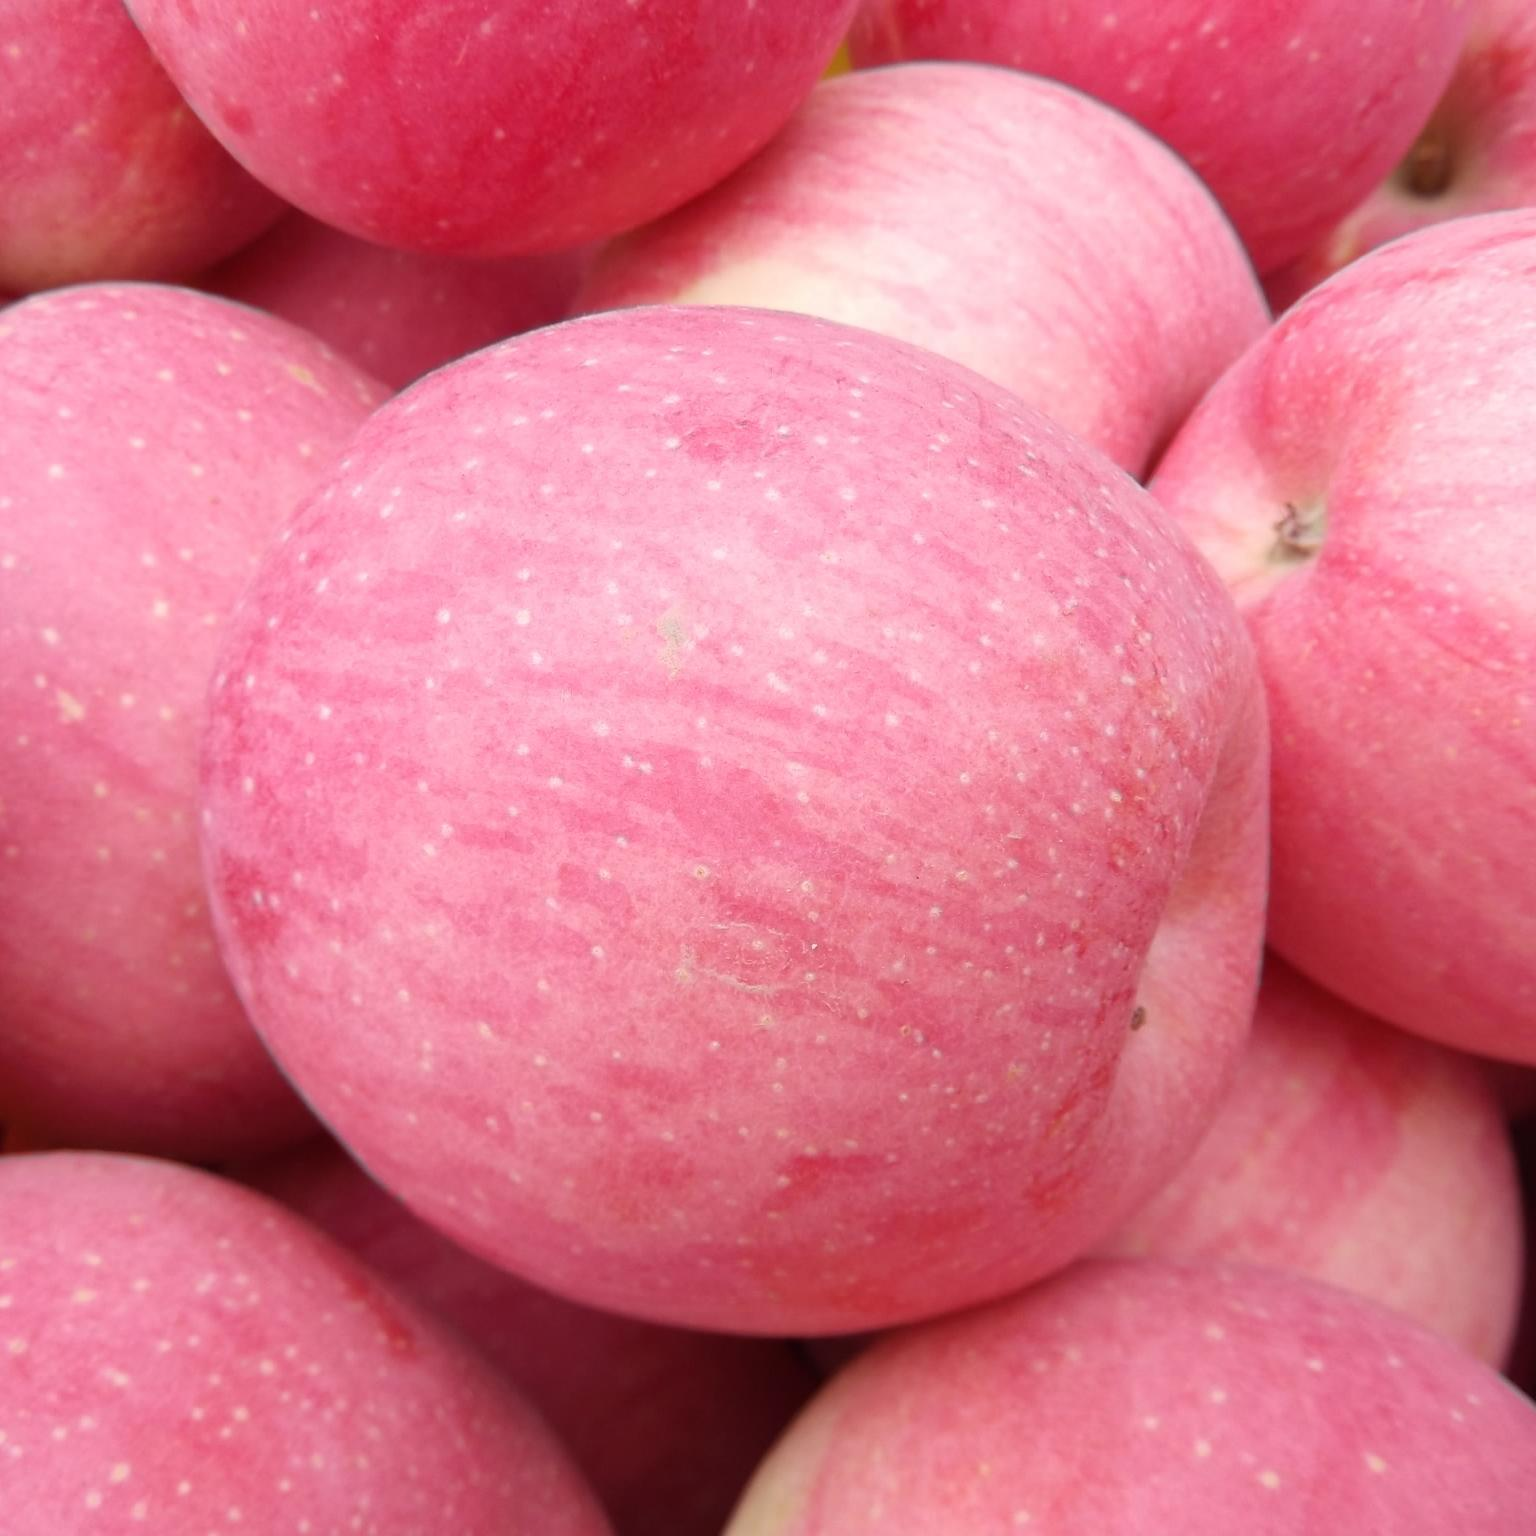apple: (41, 69, 1468, 1338), (574, 0, 1498, 1103), (307, 53, 1295, 516), (44, 13, 876, 302), (0, 1151, 610, 1528), (751, 1249, 1535, 1525), (878, 11, 1504, 279), (1, 0, 279, 300)
